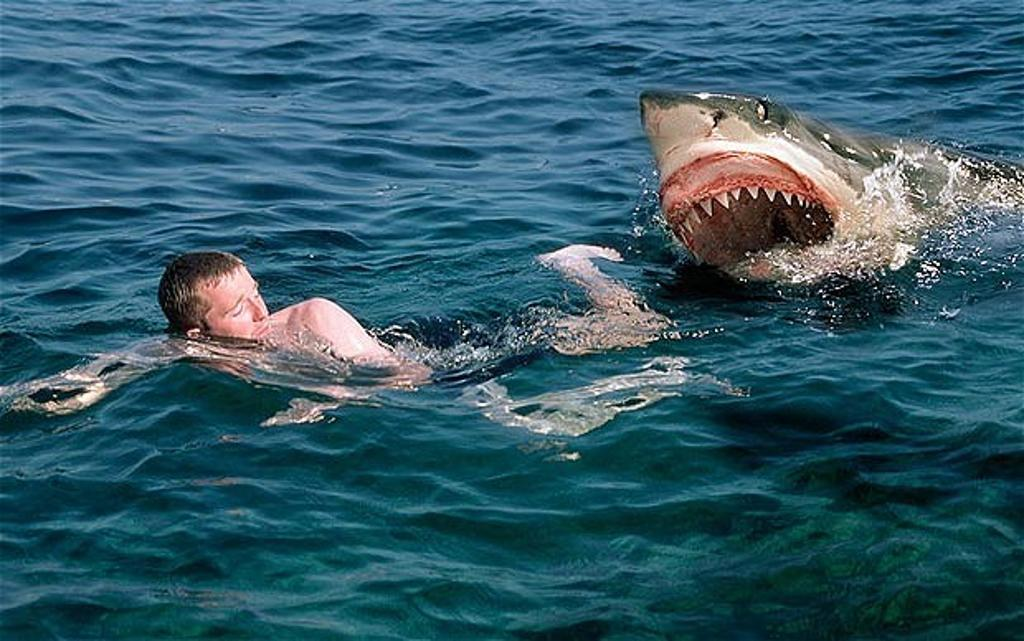face: (193, 253, 287, 357)
